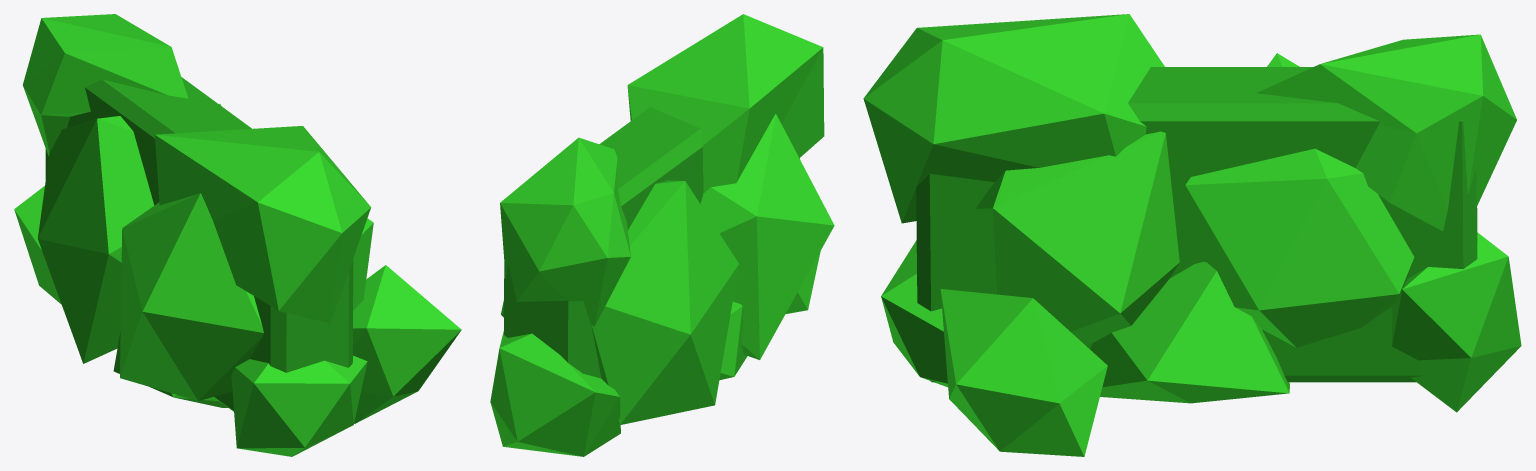
File: BushWall1.fbx
3 renders of one model, left to right at view 1: azimuth 30°, elevation 25°; view 2: azimuth 150°, elevation 25°; view 3: azimuth 270°, elevation 25°, orthographic. The views are drawn at different scales.
Visible parts, largest first — view 1: Icosphere, Cube; view 2: Icosphere, Cube; view 3: Icosphere, Cube.
Boxes of the visible parts, left/top/right/bottom form: Icosphere: left=14, top=14, right=461, bottom=456; Cube: left=45, top=77, right=353, bottom=411; Icosphere: left=490, top=14, right=834, bottom=456; Cube: left=504, top=107, right=799, bottom=378; Icosphere: left=863, top=14, right=1521, bottom=456; Cube: left=916, top=67, right=1477, bottom=382.
Size of the model in its own units: 6.89 by 7.17 by 11.67.
